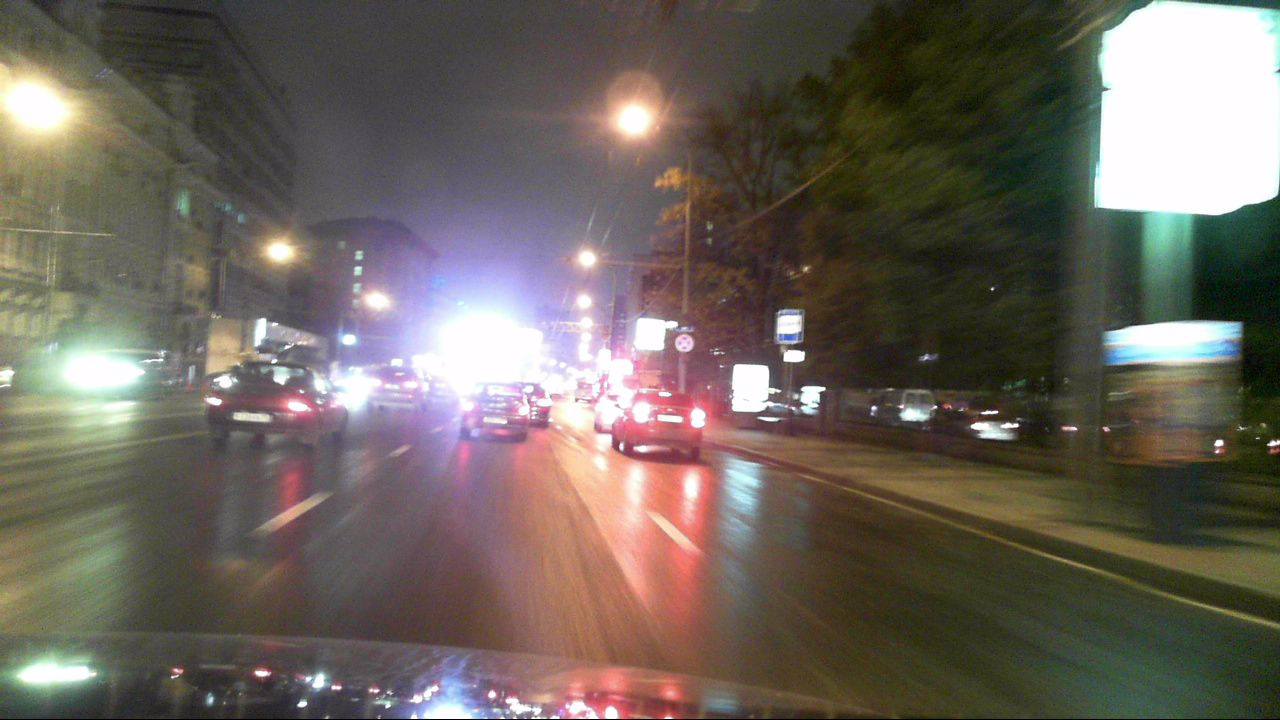No Parking: (674, 334, 694, 352)
